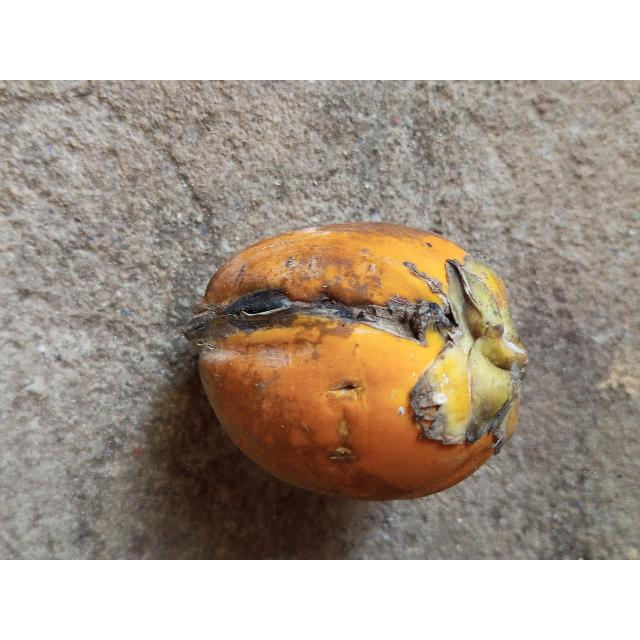damaged: (184, 223, 529, 503)
